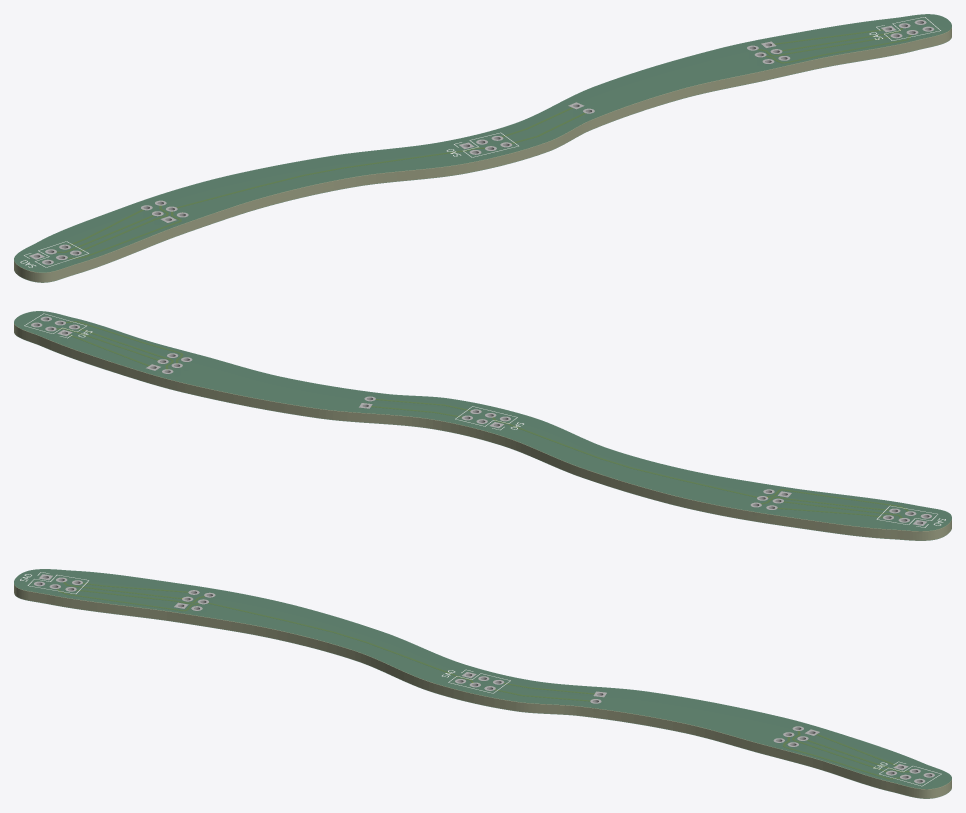
The model's file is sao-up-sao-bridge-supercon-2024-badge-adapter-pcbs.glb.
3 renders of one model, top to bottom at view 1: azimuth 30°, elevation 25°; view 2: azimuth 150°, elevation 25°; view 3: azimuth 330°, elevation 25°, orthographic. The views are drawn at different scales.
Parts seen in each view (by area): view 1: =>[0:1:1:8], =>[0:1:1:6], =>[0:1:1:2], =>[0:1:1:4]; view 2: =>[0:1:1:8], =>[0:1:1:6], =>[0:1:1:2], =>[0:1:1:4]; view 3: =>[0:1:1:8], =>[0:1:1:6], =>[0:1:1:2], =>[0:1:1:4].
Boxes of the visible parts, x1,y1,x2,y2 form: =>[0:1:1:8]: [14, 15, 951, 282]; =>[0:1:1:6]: [14, 14, 951, 282]; =>[0:1:1:2]: [29, 20, 934, 264]; =>[0:1:1:4]: [20, 17, 940, 267]; =>[0:1:1:8]: [14, 312, 951, 540]; =>[0:1:1:6]: [14, 311, 951, 540]; =>[0:1:1:2]: [31, 316, 931, 525]; =>[0:1:1:4]: [24, 313, 945, 527]; =>[0:1:1:8]: [14, 570, 951, 798]; =>[0:1:1:6]: [14, 569, 951, 798]; =>[0:1:1:2]: [34, 574, 934, 783]; =>[0:1:1:4]: [20, 572, 941, 786].
Bounding box in the file's own units: 0.1568 × 0.00166 × 0.0177.
Materials: 4 (4 with a texture image).
